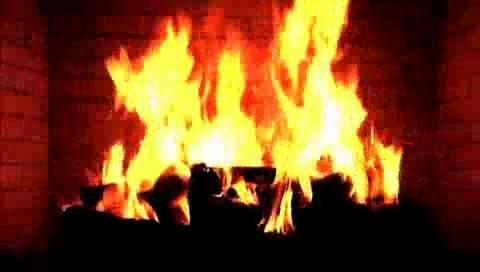fire: (94, 20, 407, 226)
